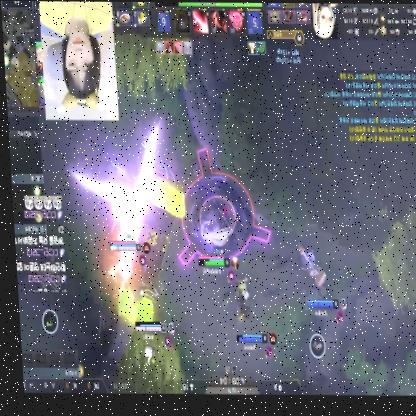streamer: (38, 0, 115, 115)
